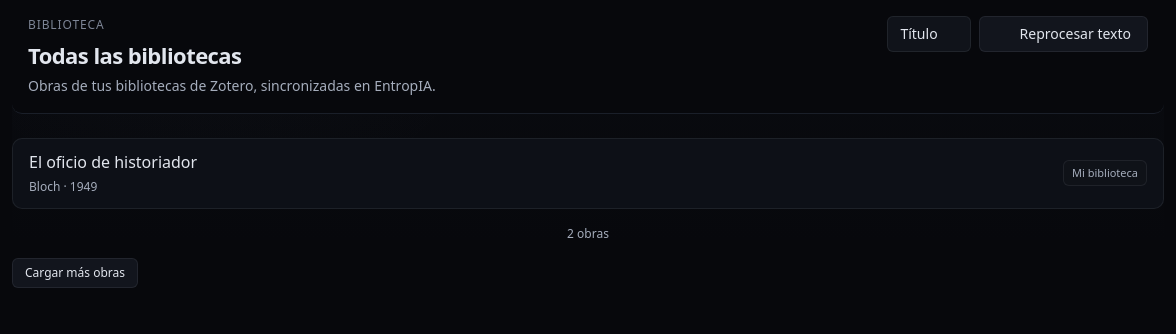
Test: BibliotecaView › loads the next page of works on demand
This screenshot has width=1176, height=334.
Check: the text "El oficio de historiador" is shown, box [29,151,197,173]
Click the button "Cargar más obras" at (75, 273), box [12,258,138,288]
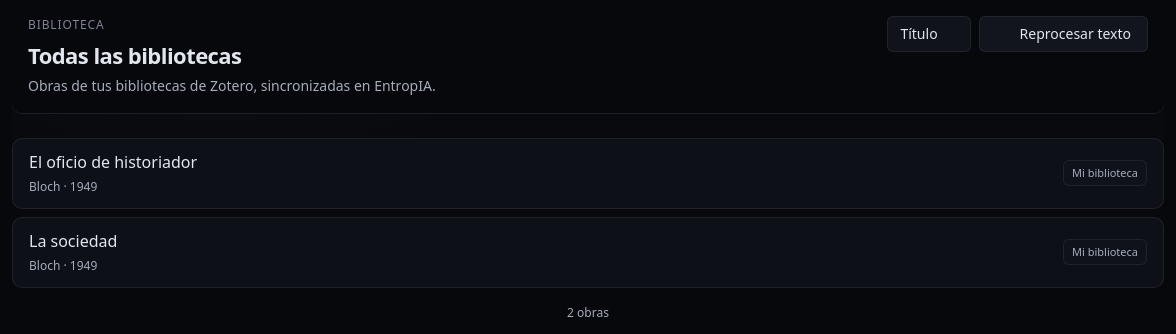
Check: the text "La sociedad" is shown, box [29,230,117,252]
